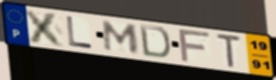D: (137, 23, 172, 60)
F: (177, 28, 213, 63)
L: (65, 15, 95, 51)
M: (103, 19, 141, 55)
T: (215, 32, 243, 69)
X: (23, 8, 68, 49)
